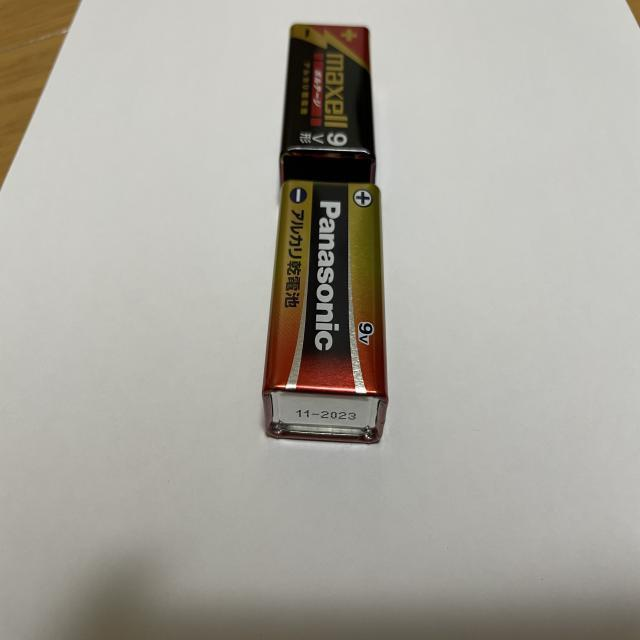9V: (262, 181, 390, 447), (277, 23, 377, 185)
